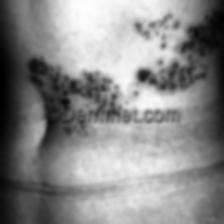Toxin: (26, 58, 120, 107), (136, 59, 208, 92), (185, 4, 224, 54), (134, 12, 178, 47), (61, 123, 94, 139)
